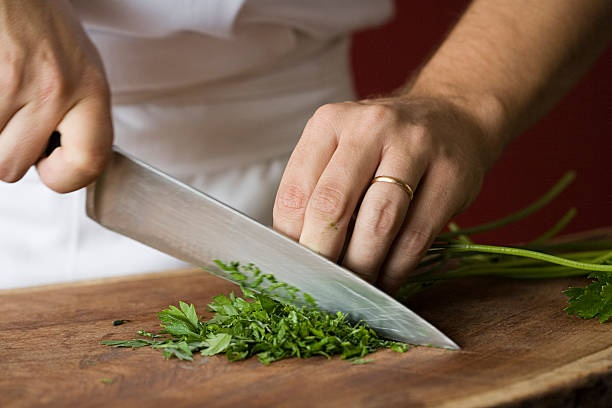knife: (40, 109, 460, 354)
